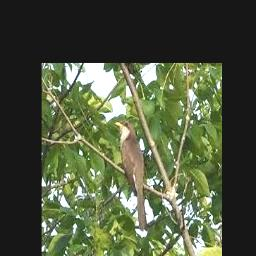Cuckoo: (114, 120, 147, 230)
